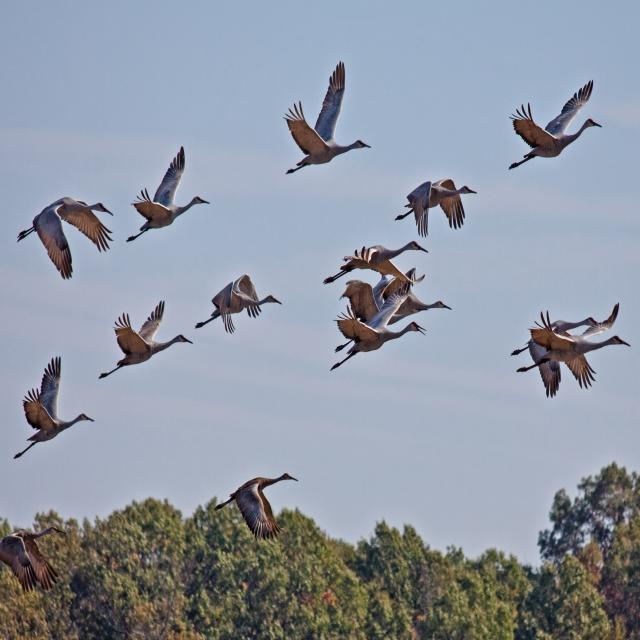bird: (510, 300, 631, 398), (281, 62, 372, 177), (328, 271, 437, 362), (13, 195, 116, 284), (509, 76, 601, 167), (127, 142, 209, 241), (18, 355, 98, 452), (107, 299, 193, 371), (215, 476, 300, 544), (198, 276, 284, 335), (397, 179, 476, 238), (326, 242, 428, 278)
